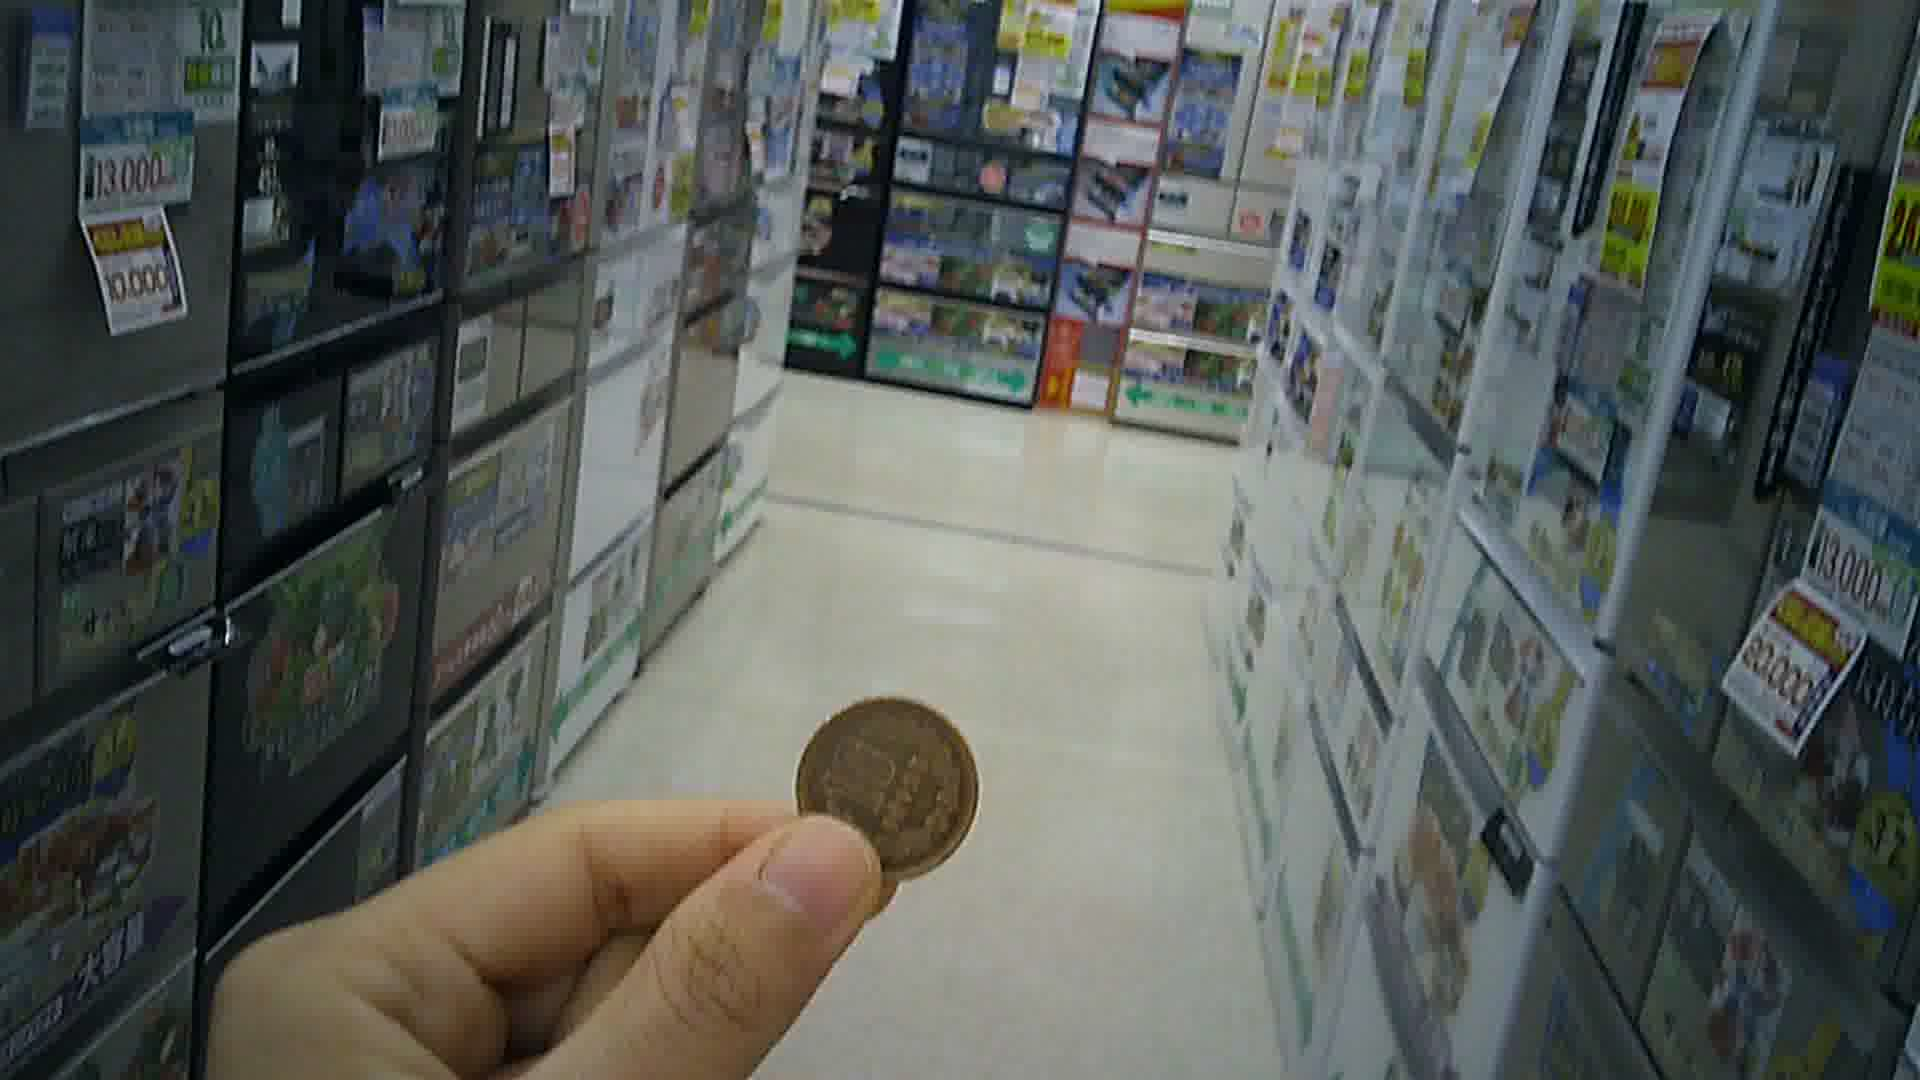10 Yen: (791, 696, 986, 884)
